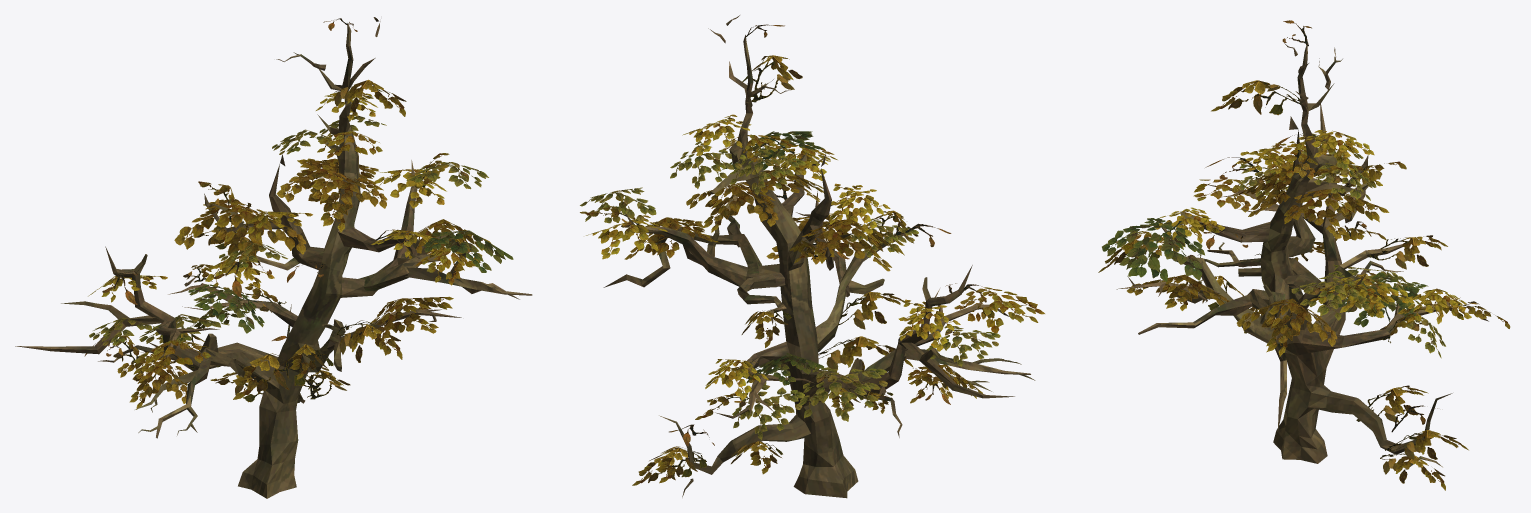
File: s7_fightpve_shui01.FBX
The picture shows the model from 3 angles, left to right: view 1: azimuth 30°, elevation 25°; view 2: azimuth 150°, elevation 25°; view 3: azimuth 270°, elevation 25°; orthographic projection. The views are drawn at different scales.
Parts seen in each view (by area): view 1: DrawCall_190_010; view 2: DrawCall_190_010; view 3: DrawCall_190_010.
Part boxes in pixels (left/top/right/bottom): DrawCall_190_010: left=15, top=17, right=532, bottom=498; DrawCall_190_010: left=580, top=15, right=1044, bottom=498; DrawCall_190_010: left=1098, top=20, right=1510, bottom=490.
Size of the model in its own units: 357 by 331 by 281.
Materials: 1 (1 with a texture image).
